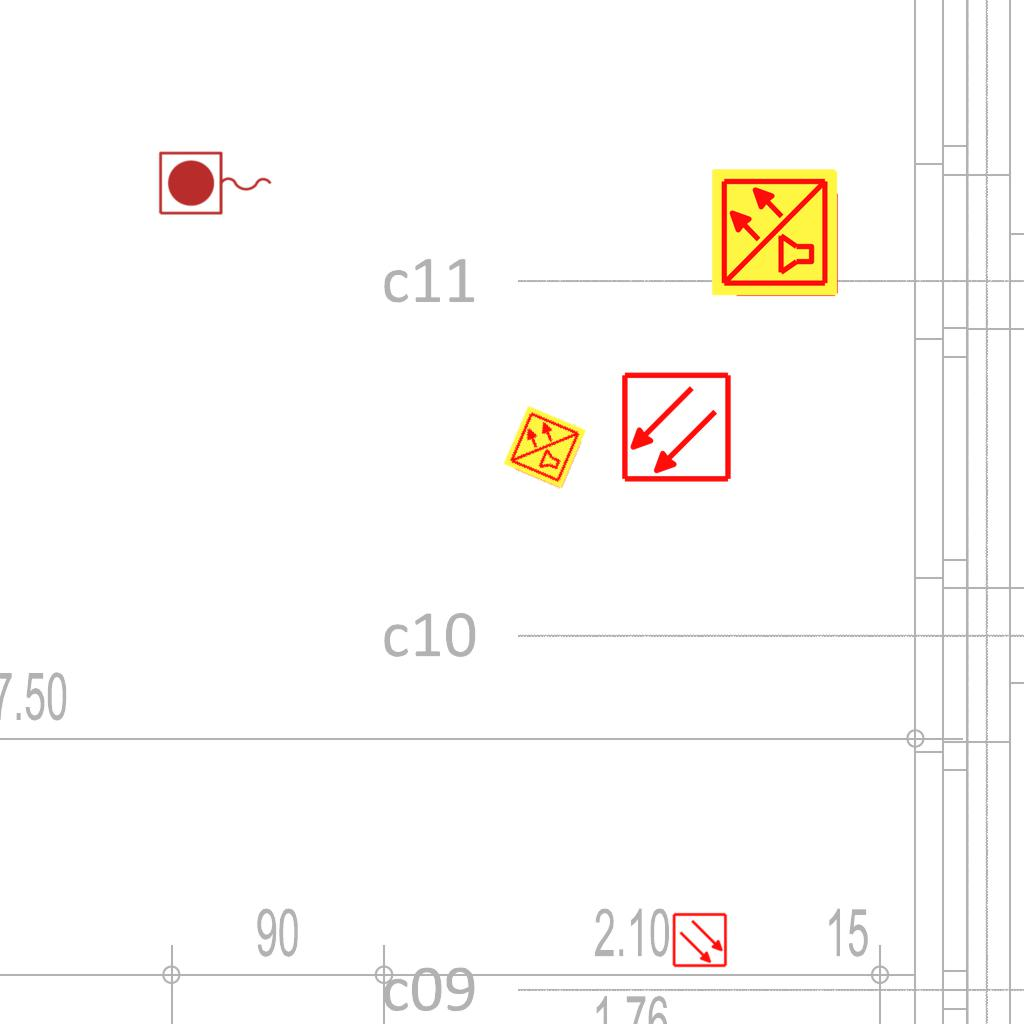OKW_Multisensormelder_(Kombination_optischer_Rauch-Kahlenmonoxid_Waerme-Melder): (709, 166, 841, 298), (501, 403, 589, 491)
RMO_Rauchmelder_optischer: (620, 371, 733, 484), (672, 912, 728, 968)
Zugtaster: (155, 148, 277, 220)
